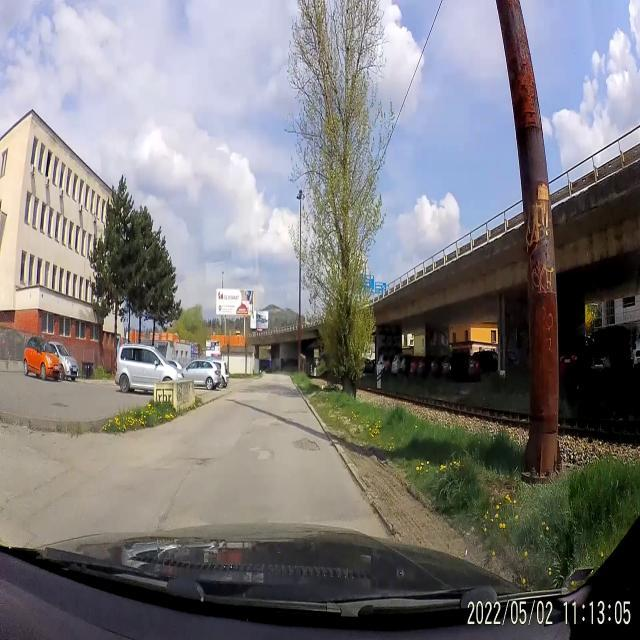Pothole: (290, 433, 322, 456), (249, 443, 276, 463), (187, 454, 214, 468), (238, 384, 258, 396), (282, 414, 296, 426), (284, 408, 310, 414), (268, 418, 282, 428)
